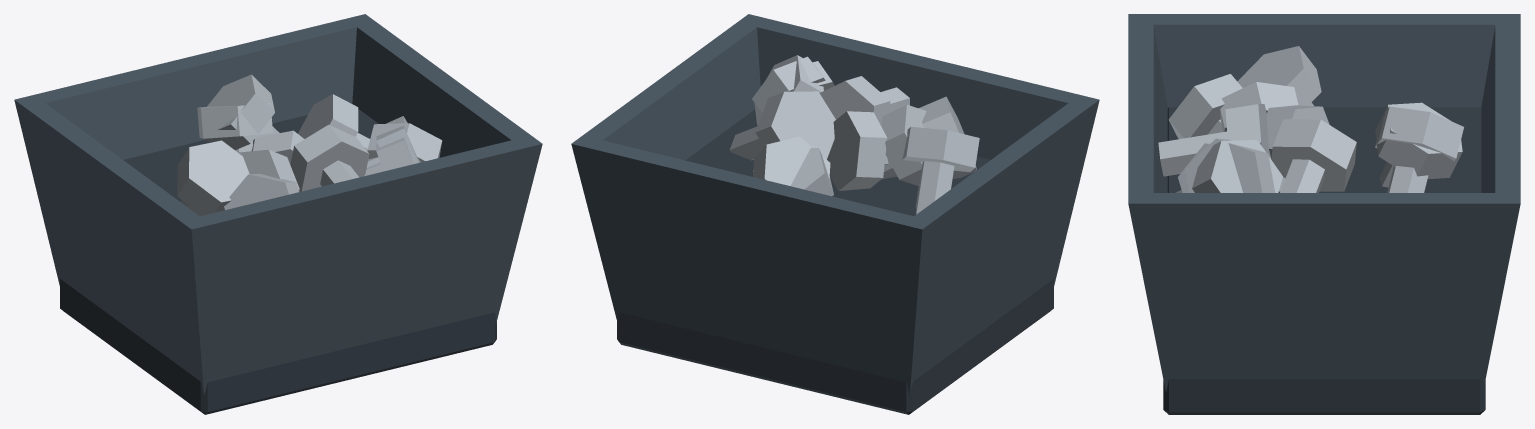
File: Prop_BoltContainer.fbx
The picture shows the model from 3 angles, left to right: view 1: azimuth 30°, elevation 25°; view 2: azimuth 150°, elevation 25°; view 3: azimuth 270°, elevation 25°; orthographic projection. The views are drawn at different scales.
Visible parts, largest first — view 1: Frame, SteelLight, FrameDark; view 2: Frame, SteelLight, FrameDark; view 3: Frame, SteelLight, FrameDark.
Boxes of the visible parts, x1=… form: Frame: x1=14, y1=14, x2=542, y2=395; SteelLight: x1=177, y1=74, x2=442, y2=216; FrameDark: x1=60, y1=109, x2=496, y2=414; Frame: x1=571, y1=14, x2=1099, y2=395; SteelLight: x1=729, y1=55, x2=979, y2=214; FrameDark: x1=617, y1=109, x2=1053, y2=414; Frame: x1=1128, y1=14, x2=1520, y2=392; SteelLight: x1=1158, y1=46, x2=1463, y2=192; FrameDark: x1=1163, y1=107, x2=1485, y2=414.
Size of the model in its own units: 1.6 by 0.9697 by 1.4.
